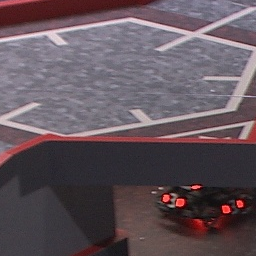Red: (161, 192, 185, 211), (220, 200, 246, 213)
Robot: (154, 186, 252, 228)
